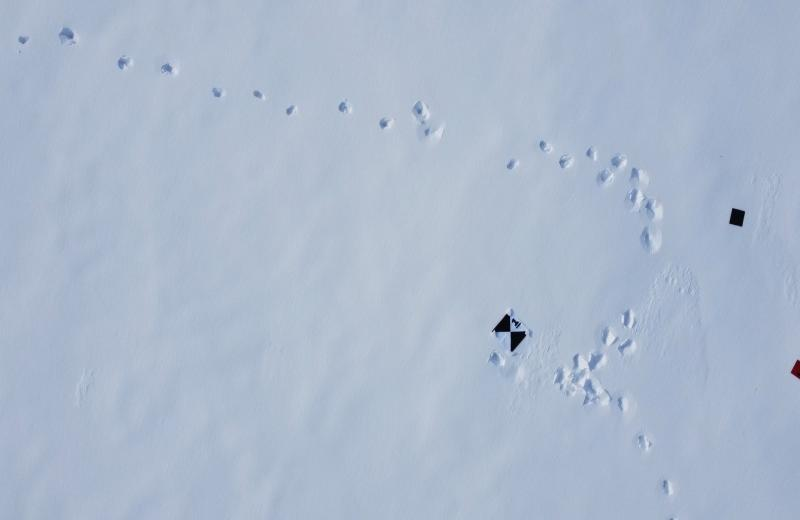Rectangle: (787, 358, 800, 382)
Square: (728, 207, 746, 228)
